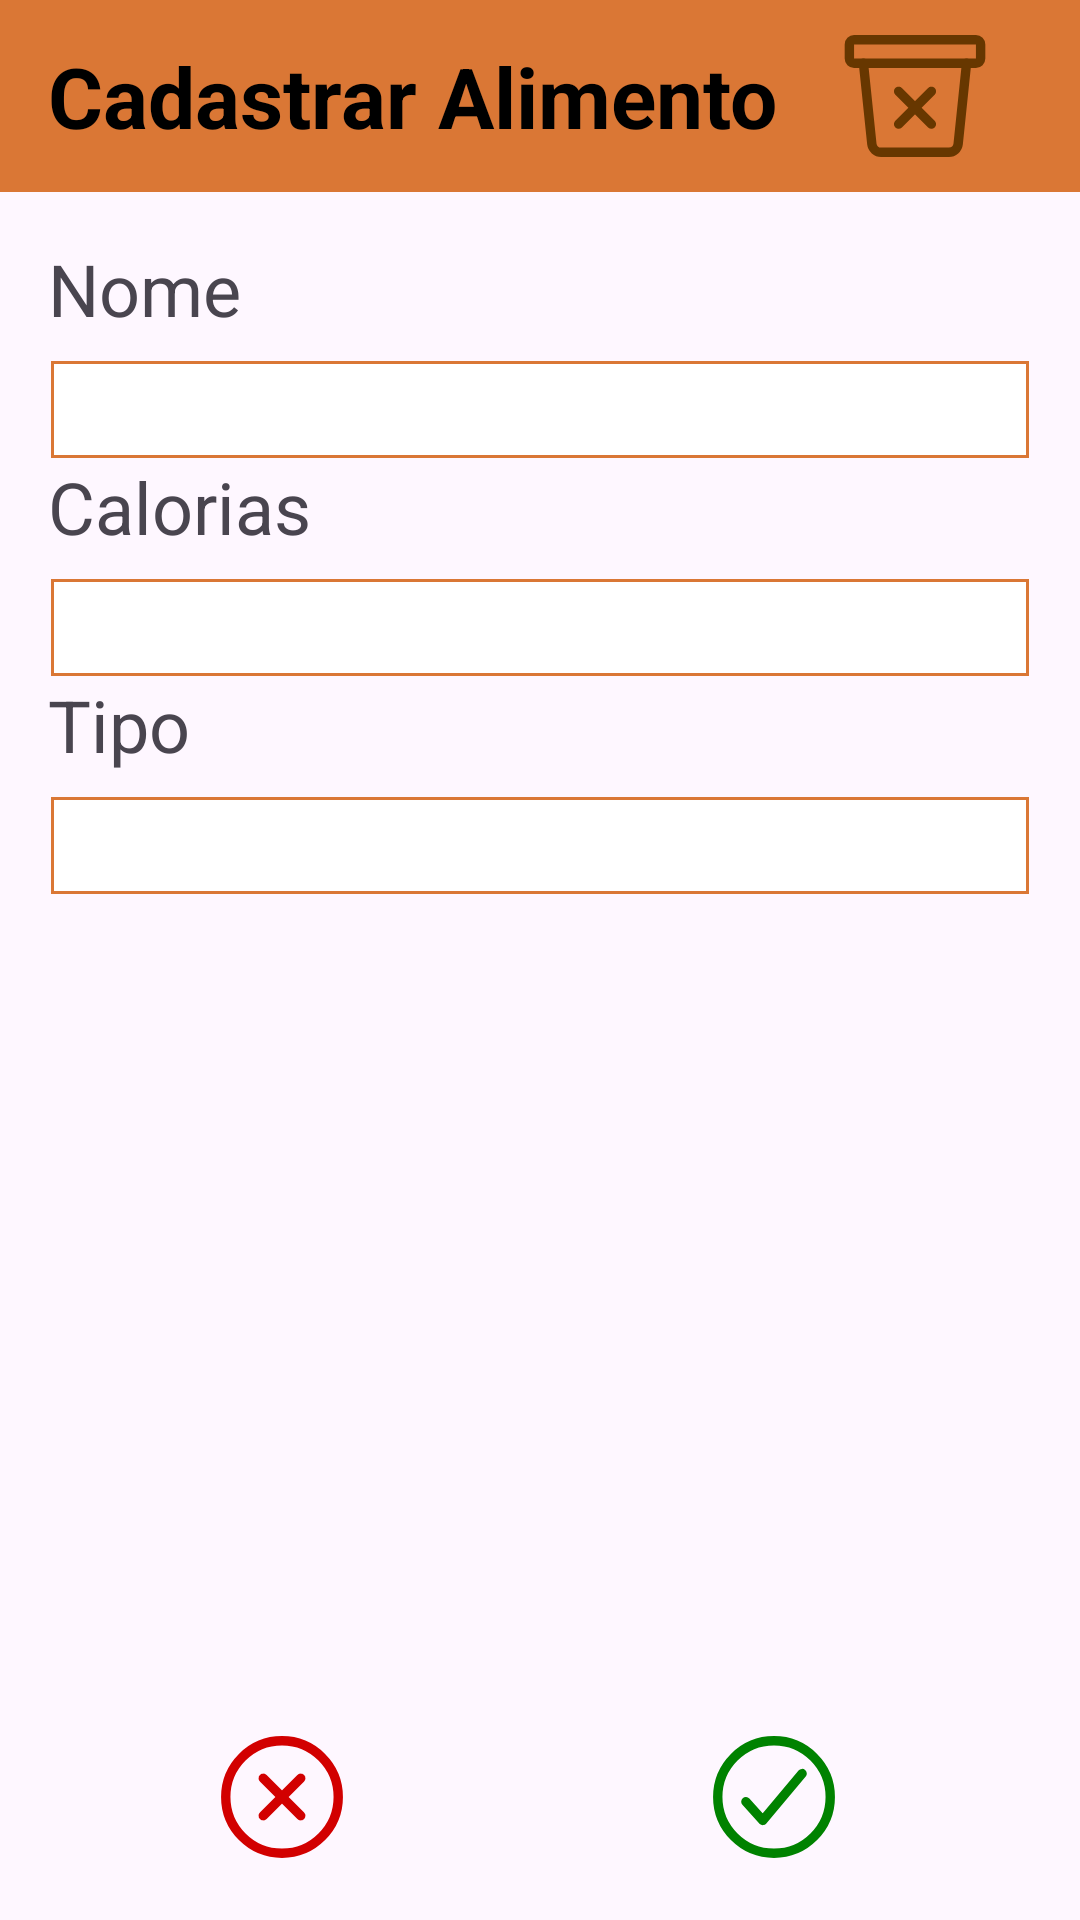

Locate icon controls on the screen. Image size 1080×1920, boxes as detection(x1, y1, x2, y2).
checkmark circle: detection(713, 1736, 835, 1858)
close circle: detection(221, 1736, 343, 1858)
trash bin: detection(844, 35, 986, 157)
